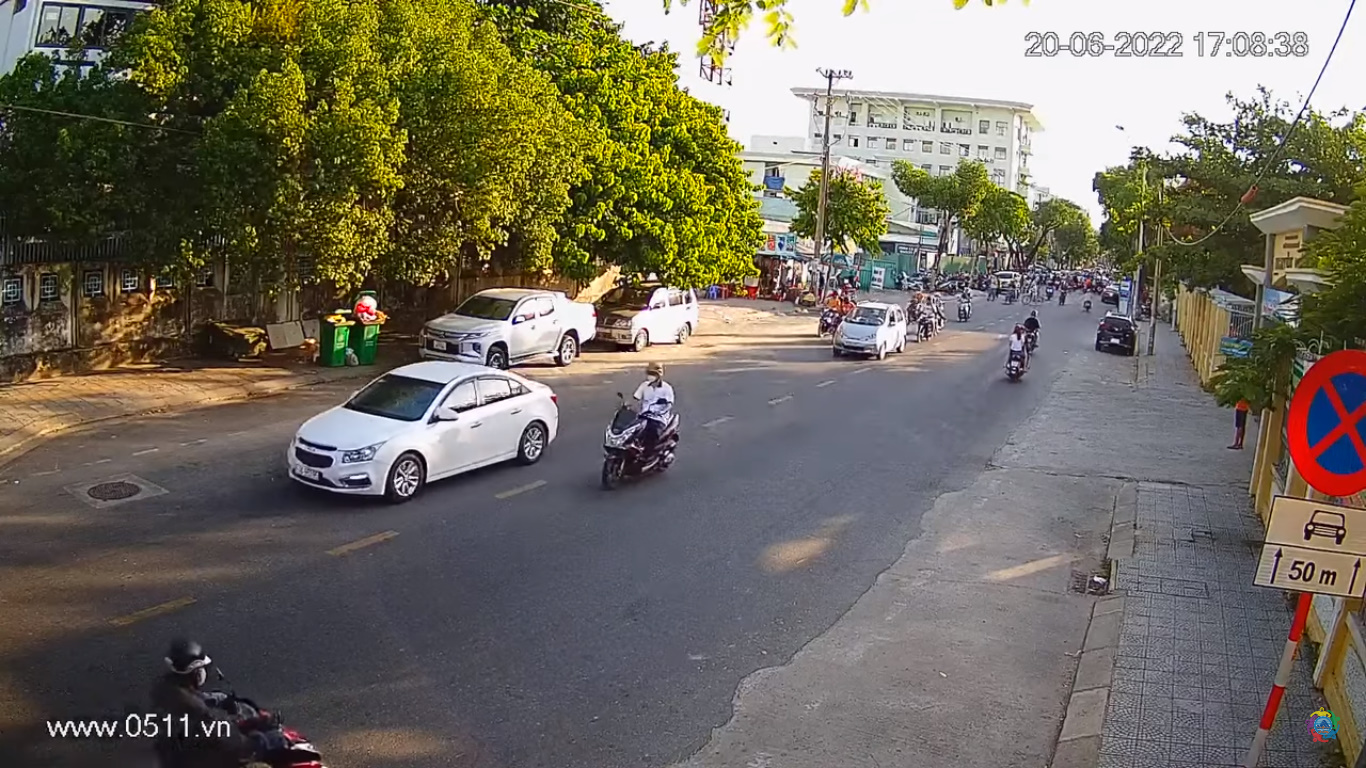car: (289, 355, 562, 509), (837, 302, 908, 358)
